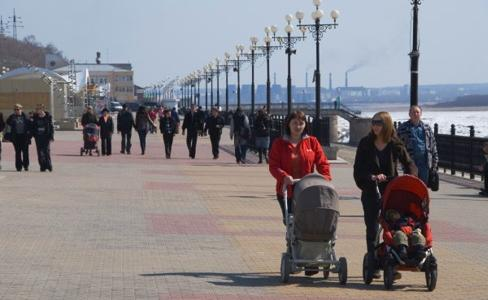person: (268, 110, 332, 276)
